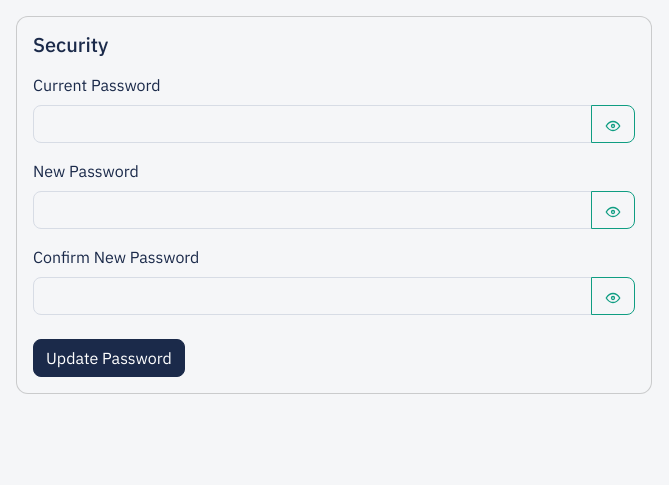
Scenario: SettingsPage › shows a client-side error when the new passwords do not match
Type "CurrentPass1!" into the password field labelled "Current Password".
click(312, 124); type("CurrentPass1!")  # box [33, 105, 592, 143]
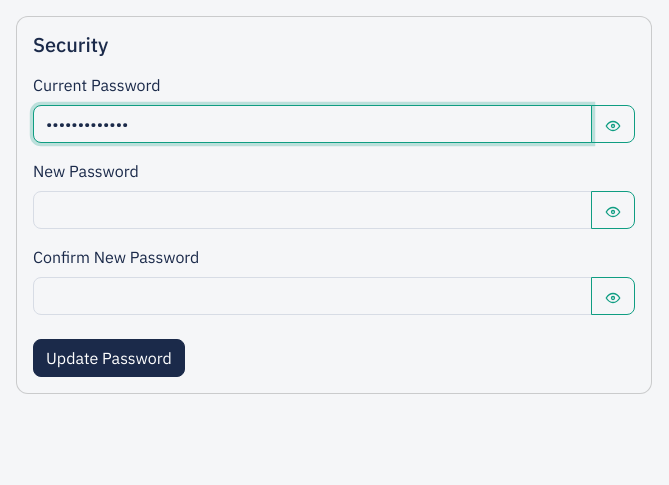
Type "NewPass1!" into the password field labelled "New Password".
click(312, 210); type("NewPass1!")  # box [33, 191, 592, 229]
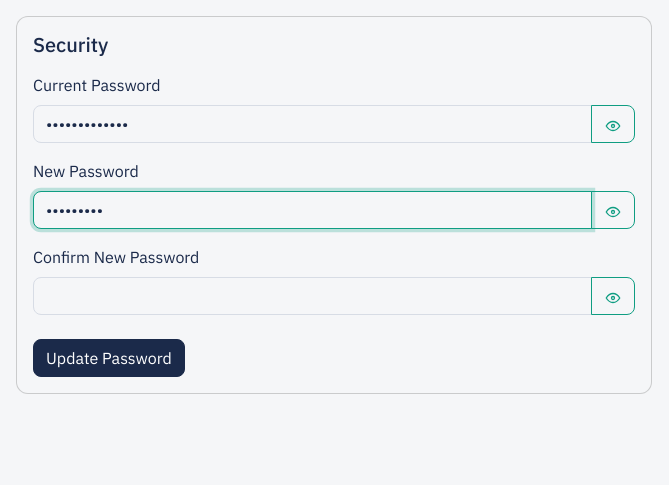
Type "DifferentPass2!" into the password field labelled "Confirm New Password".
click(312, 296); type("DifferentPass2!")  # box [33, 277, 592, 315]
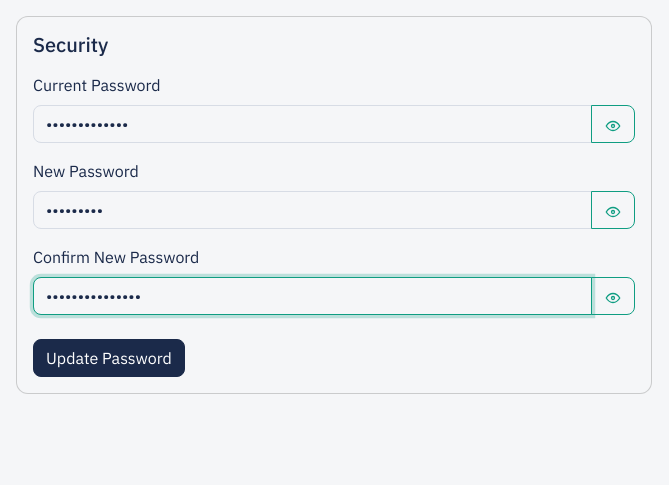
Click the button "Update Password".
click(109, 358)  # box [33, 339, 185, 377]
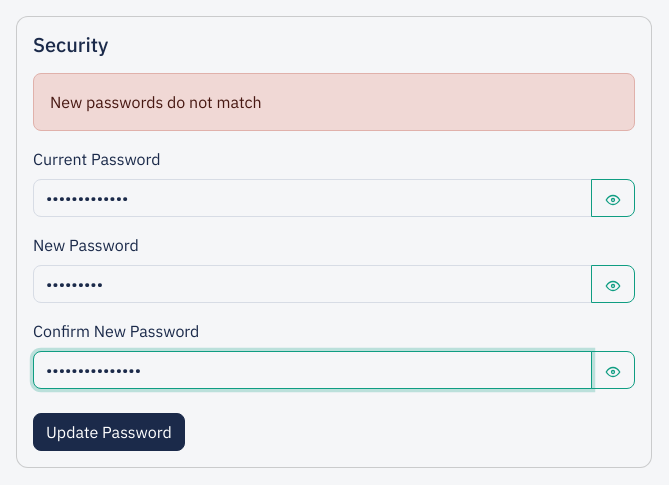
Result: the message with test id "settings-error-alert" shows "do not match" at [50, 92, 262, 112]
